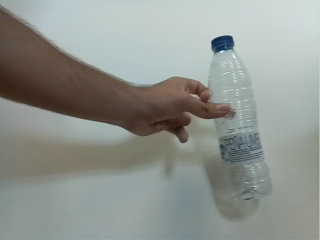botella plastico: (205, 34, 274, 203)
